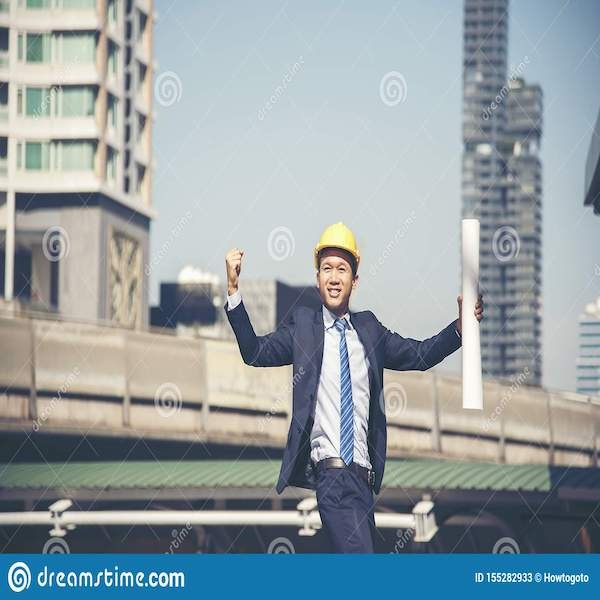helmet: (311, 221, 366, 257)
